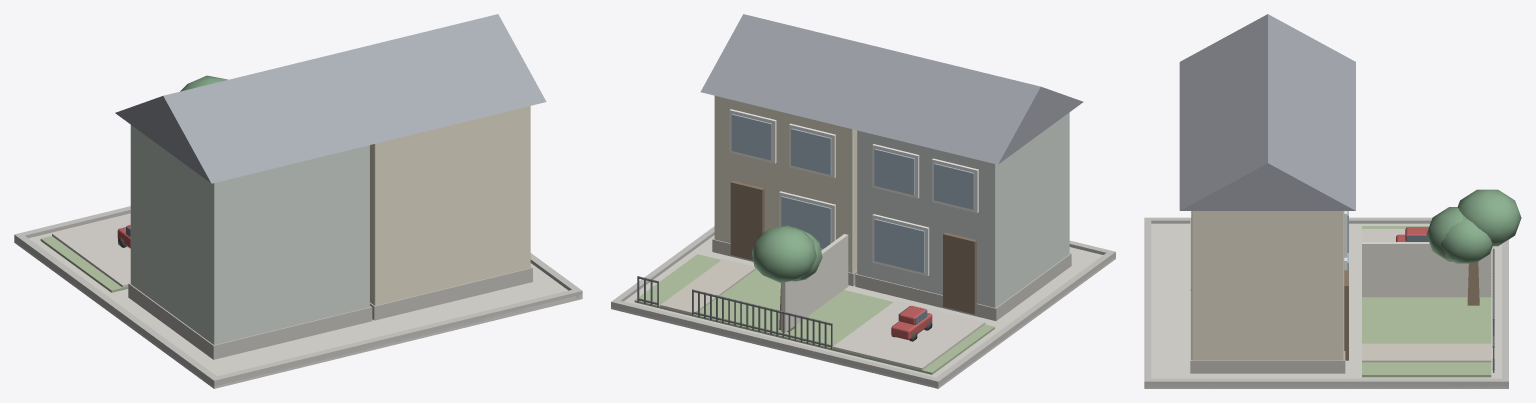
The model's file is mapa.casa_amigos.fbx.
3 renders of one model, left to right at view 1: azimuth 30°, elevation 25°; view 2: azimuth 150°, elevation 25°; view 3: azimuth 270°, elevation 25°, orthographic. The views are drawn at different scales.
Visible parts, largest first — view 1: Muros.001, Techo, Muros, Vereda, Zócalo.001, Solera.001, Entrada de autos, Solera.003, Zócalo, Pasto, Solera, Solera.002; view 2: Techo, Muros.001, Muros, Pasto, Vereda, Entrada de autos, Muro medianero, Solera, Copa, Zócalo.001, Puerta.001, Puerta (+16 smaller); view 3: Techo, Muros, Vereda, Pasto, Muro medianero, Solera.002, Camino, Copa, Zócalo, Copa.002, Solera.001, Solera (+5 smaller).
Part boxes in pixels (<box>): Muros.001: <box>130,125,369,344</box>; Techo: <box>115,14,546,183</box>; Muros: <box>370,106,530,305</box>; Vereda: <box>14,213,582,388</box>; Zócalo.001: <box>128,283,372,359</box>; Solera.001: <box>210,288,582,386</box>; Entrada de autos: <box>52,214,130,287</box>; Solera.003: <box>14,233,220,385</box>; Zócalo: <box>370,266,532,320</box>; Pasto: <box>40,236,128,292</box>; Solera: <box>16,206,130,241</box>; Solera.002: <box>530,253,580,298</box>; Techo: <box>700,14,1083,164</box>; Muros.001: <box>857,112,1069,307</box>; Muros: <box>714,96,857,272</box>; Pasto: <box>634,254,994,374</box>; Vereda: <box>611,235,1115,388</box>; Entrada de autos: <box>833,300,985,370</box>; Muro medianero: <box>781,234,848,332</box>; Solera: <box>611,299,941,386</box>; Copa: <box>752,225,816,282</box>; Zócalo.001: <box>855,253,1071,320</box>; Puerta.001: <box>943,232,976,314</box>; Puerta: <box>730,180,764,260</box>; Techo: <box>1179,14,1355,210</box>; Muros: <box>1191,211,1344,360</box>; Vereda: <box>1144,223,1508,388</box>; Pasto: <box>1362,226,1491,377</box>; Muro medianero: <box>1362,242,1491,297</box>; Solera.002: <box>1144,378,1508,386</box>; Camino: <box>1362,343,1491,362</box>; Copa: <box>1458,189,1521,246</box>; Zócalo: <box>1190,290,1345,373</box>; Copa.002: <box>1440,216,1492,263</box>; Solera.001: <box>1144,217,1151,386</box>; Solera: <box>1502,239,1508,386</box>.
Size of the model in its own units: 3.3 by 2.05 by 3.21.
